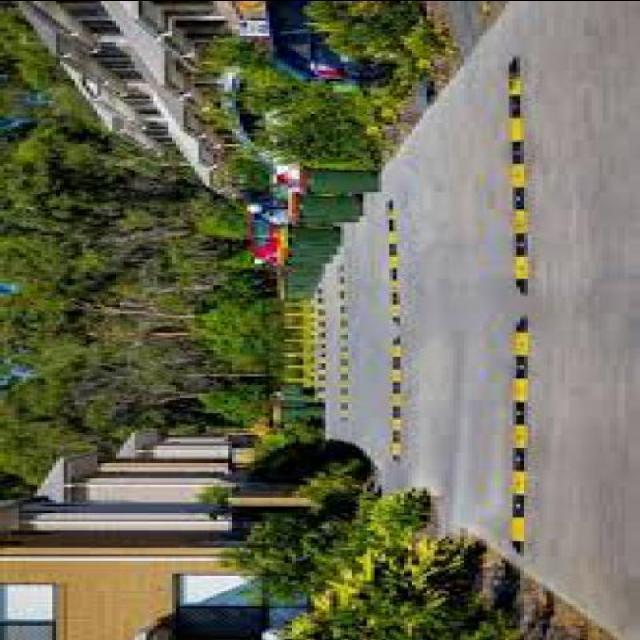Speed_Breaker: (505, 48, 528, 565), (384, 192, 410, 477), (383, 195, 404, 462), (508, 52, 531, 290), (512, 312, 529, 560), (338, 265, 351, 431), (339, 264, 351, 415)
